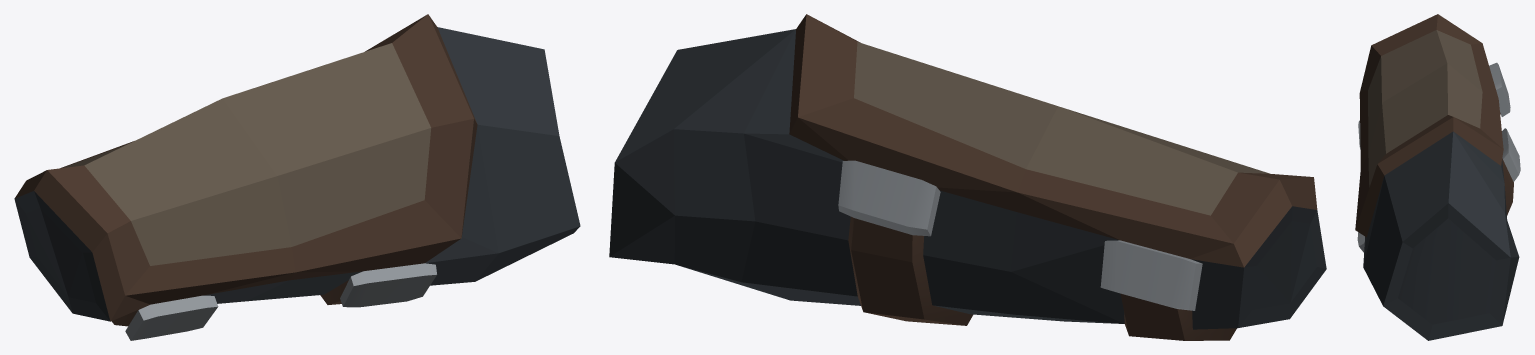
File: Chr_ArmLowerRight_Female_08_Static.fbx
3 views of the same model, side by side, from view 1: azimuth 30°, elevation 25°; view 2: azimuth 150°, elevation 25°; view 3: azimuth 270°, elevation 25° (orthographic). The views are drawn at different scales.
Parts seen in each view (by area): view 1: Chr_ArmLowerRight_Female_08_Static; view 2: Chr_ArmLowerRight_Female_08_Static; view 3: Chr_ArmLowerRight_Female_08_Static.
Boxes of the visible parts, x1,y1,x2,y2 form: Chr_ArmLowerRight_Female_08_Static: (14,14,580,340); Chr_ArmLowerRight_Female_08_Static: (609,14,1326,340); Chr_ArmLowerRight_Female_08_Static: (1355,14,1520,340).
Bounding box in the file's own units: 0.2944 × 0.1375 × 0.1053.
